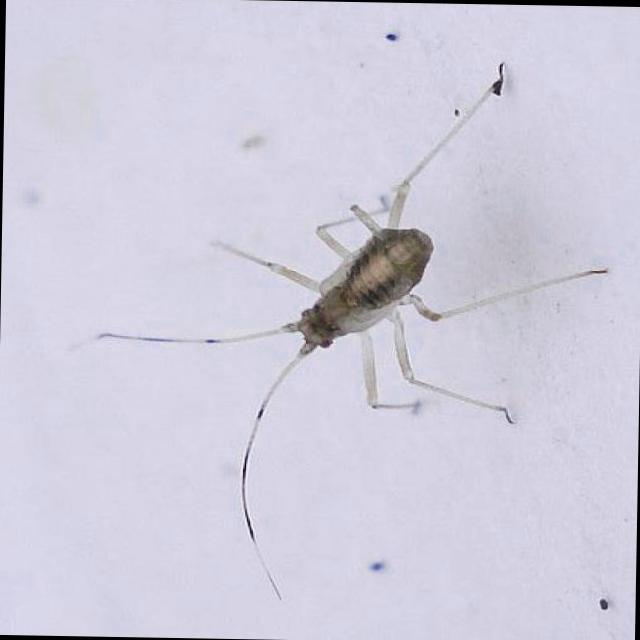aphid: (222, 177, 500, 441)
